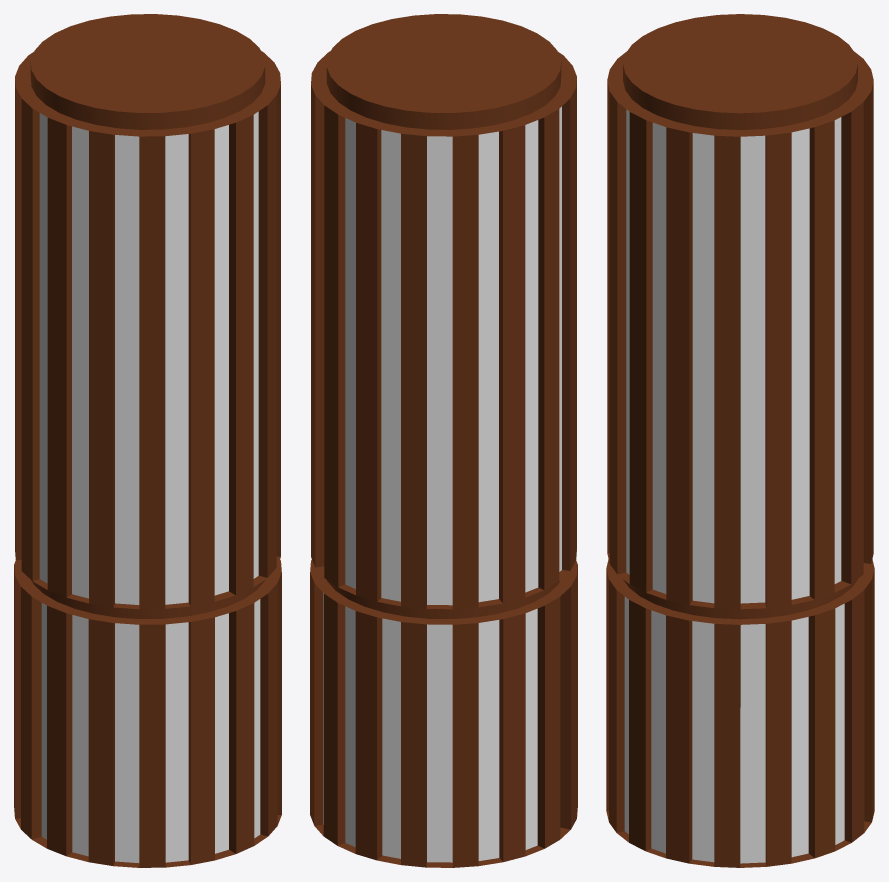
The picture shows the model from 3 angles, left to right: view 1: azimuth 30°, elevation 25°; view 2: azimuth 150°, elevation 25°; view 3: azimuth 270°, elevation 25°; orthographic projection.
Parts seen in each view (by area): view 1: Cylinder; view 2: Cylinder; view 3: Cylinder.
Boxes of the visible parts, box(x1,y1,x2,y2) form: Cylinder: box(14, 14, 281, 867); Cylinder: box(310, 14, 577, 867); Cylinder: box(606, 14, 874, 867).
Bounding box in the file's own units: 512 × 1574 × 512.
